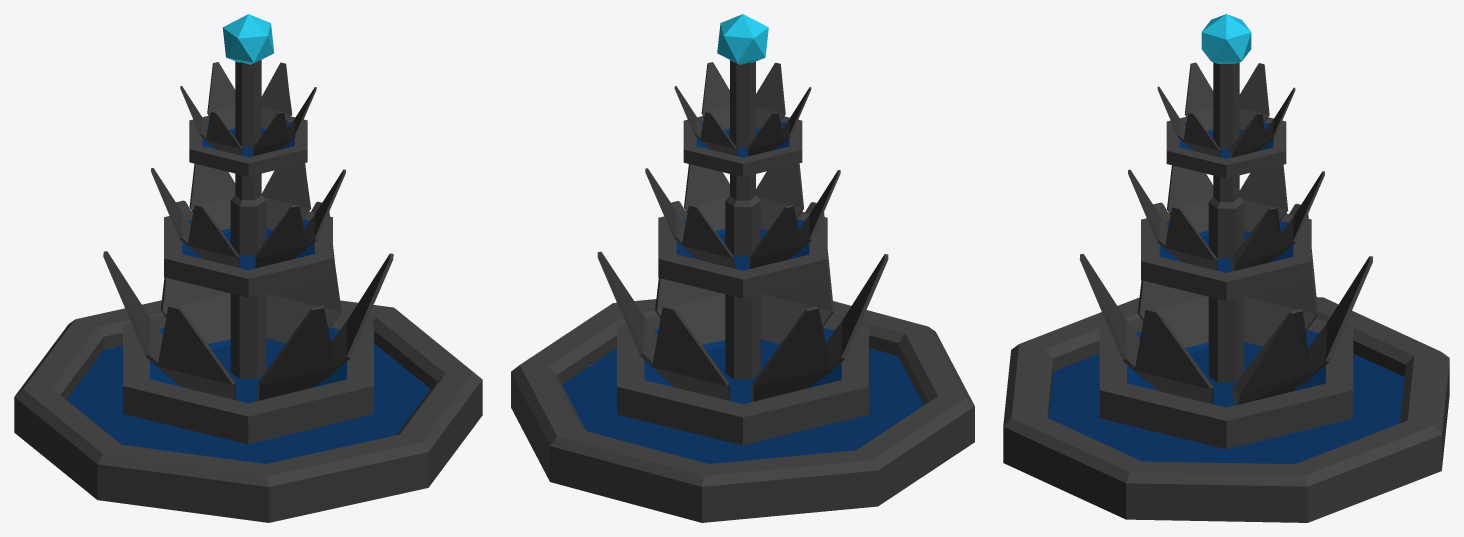
The model's file is Shield Turret.glb.
The picture shows the model from 3 angles, left to right: view 1: azimuth 30°, elevation 25°; view 2: azimuth 150°, elevation 25°; view 3: azimuth 270°, elevation 25°; orthographic projection.
Visible parts, largest first — view 1: BaseShieldTurret1, Gun1ShieldTurret1, StorageShieldTurret1; view 2: BaseShieldTurret1, Gun1ShieldTurret1, StorageShieldTurret1; view 3: BaseShieldTurret1, Gun1ShieldTurret1, StorageShieldTurret1.
Part boxes in pixels (x1,y1,x2,y2): BaseShieldTurret1: [14, 60, 482, 522]; Gun1ShieldTurret1: [103, 62, 393, 444]; StorageShieldTurret1: [222, 14, 274, 64]; BaseShieldTurret1: [511, 60, 974, 522]; Gun1ShieldTurret1: [597, 62, 888, 445]; StorageShieldTurret1: [717, 14, 768, 64]; BaseShieldTurret1: [1003, 62, 1449, 522]; Gun1ShieldTurret1: [1079, 62, 1373, 449]; StorageShieldTurret1: [1201, 14, 1251, 64].
Size of the model in its own units: 3.69 by 3.78 by 3.69.
